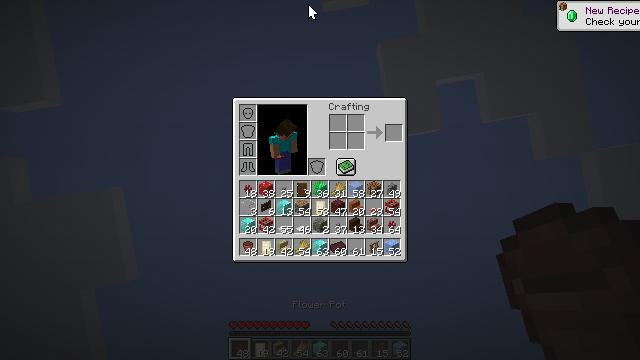cursor: (308, 4, 318, 20)
